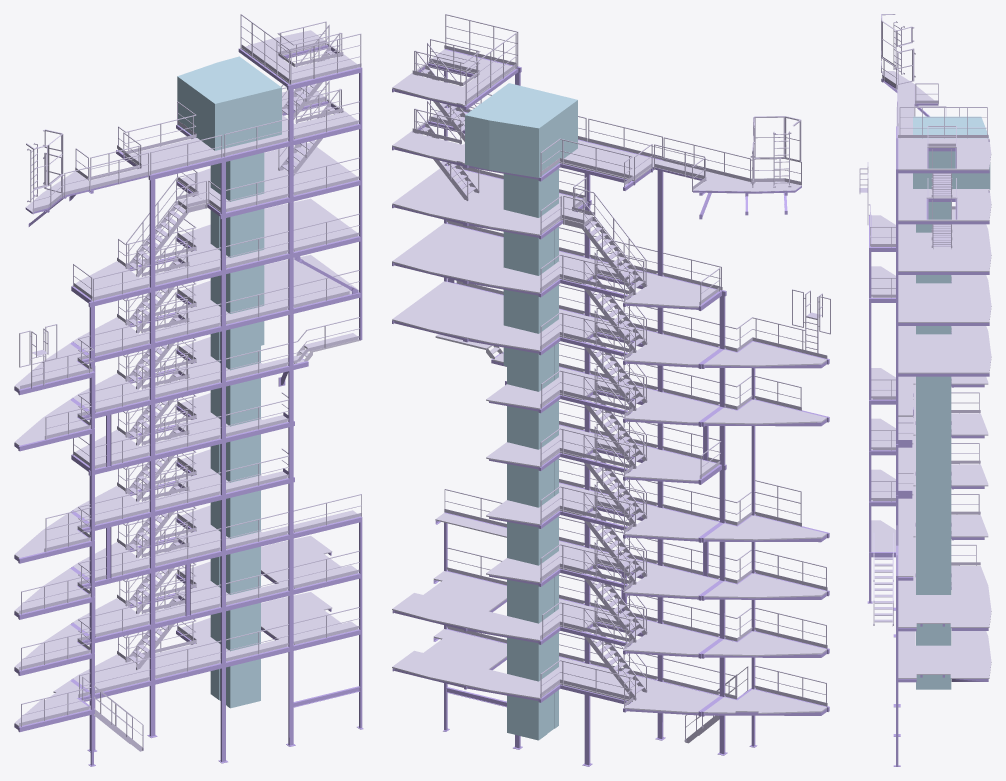
The model's file is HO-Side-C-Platforms-cut2.glb.
3 views of the same model, side by side, from view 1: azimuth 30°, elevation 25°; view 2: azimuth 150°, elevation 25°; view 3: azimuth 270°, elevation 25° (orthographic). The views are drawn at different scales.
Visible parts, largest first — view 1: _00000195A190CFC0_IndexedFaceSet, _00000195A18EEE10_IndexedFaceSet, _00000195A18EE240_IndexedFaceSet, _00000195A1903CC0_IndexedFaceSet; view 2: _00000195A190CFC0_IndexedFaceSet, _00000195A18EEE10_IndexedFaceSet, _00000195A1903CC0_IndexedFaceSet, _00000195A18EE240_IndexedFaceSet; view 3: _00000195A190CFC0_IndexedFaceSet, _00000195A1903CC0_IndexedFaceSet, _00000195A18EE240_IndexedFaceSet, _00000195A18EEE10_IndexedFaceSet.
Part boxes in pixels (x1,y1,x2,y2): _00000195A190CFC0_IndexedFaceSet: [14, 30, 361, 726]; _00000195A18EEE10_IndexedFaceSet: [19, 14, 361, 751]; _00000195A18EE240_IndexedFaceSet: [14, 45, 363, 766]; _00000195A1903CC0_IndexedFaceSet: [177, 56, 281, 708]; _00000195A190CFC0_IndexedFaceSet: [392, 49, 826, 713]; _00000195A18EEE10_IndexedFaceSet: [412, 14, 830, 743]; _00000195A1903CC0_IndexedFaceSet: [465, 83, 577, 740]; _00000195A18EE240_IndexedFaceSet: [392, 49, 829, 766]; _00000195A190CFC0_IndexedFaceSet: [871, 71, 991, 678]; _00000195A1903CC0_IndexedFaceSet: [913, 116, 990, 689]; _00000195A18EE240_IndexedFaceSet: [867, 72, 989, 766]; _00000195A18EEE10_IndexedFaceSet: [859, 14, 988, 626].
Bounding box in the file's own units: 16.69 × 30.9 × 5.88.
